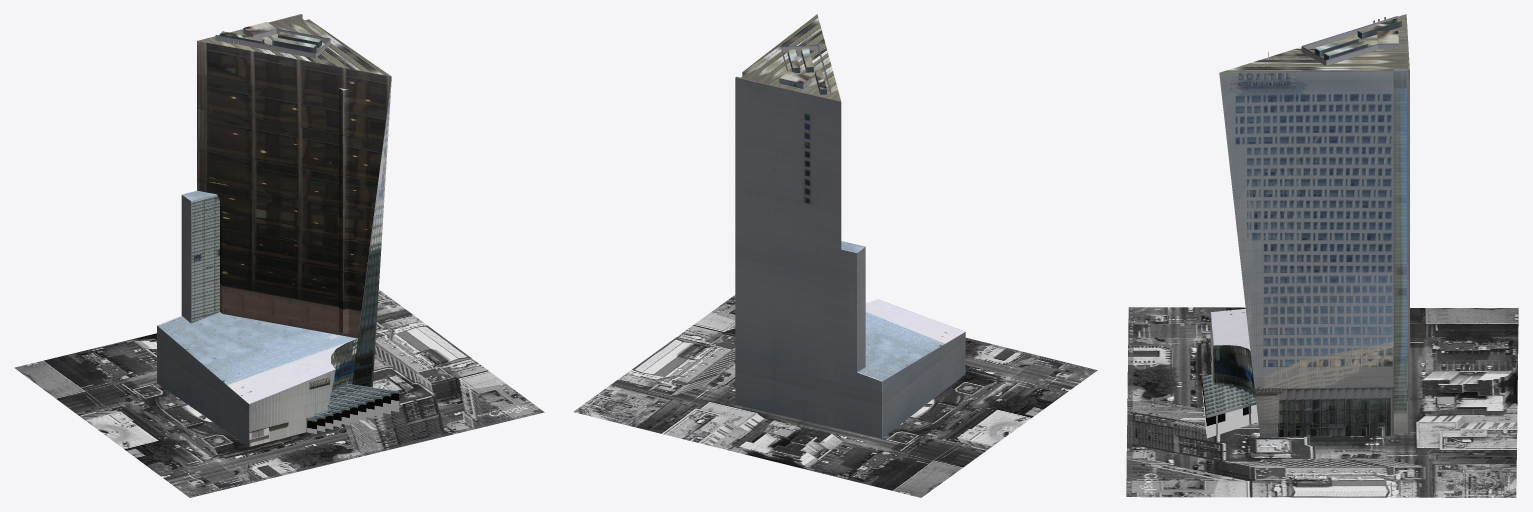
File: sofitel.fbx
3 renders of one model, left to right at view 1: azimuth 30°, elevation 25°; view 2: azimuth 150°, elevation 25°; view 3: azimuth 270°, elevation 25°, orthographic. The views are drawn at different scales.
Visible parts, largest first — view 1: Model, Google_Earth_Terrain; view 2: Model, Google_Earth_Terrain; view 3: Model, Google_Earth_Terrain, entry1.
Boxes of the visible parts, bbox=[...] form: Model: bbox=[157, 14, 391, 446]; Google_Earth_Terrain: bbox=[14, 290, 544, 497]; Model: bbox=[735, 14, 965, 438]; Google_Earth_Terrain: bbox=[573, 295, 1097, 497]; Model: bbox=[1202, 14, 1409, 437]; Google_Earth_Terrain: bbox=[1126, 307, 1518, 497]; entry1: bbox=[1206, 399, 1258, 438].
Size of the model in its own units: 4581 by 4252 by 3983.
